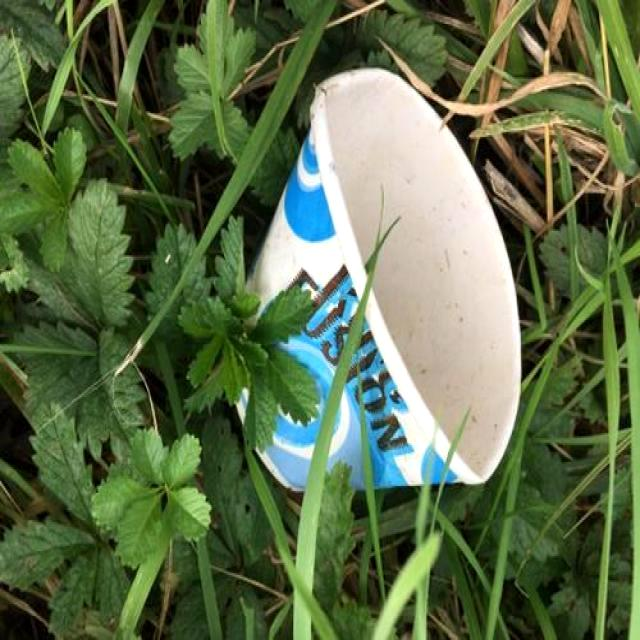Paper: (230, 64, 520, 502)
